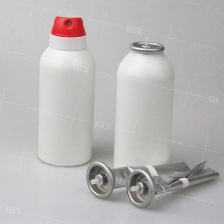aerosol_cans: (31, 12, 101, 168), (107, 33, 179, 176)
